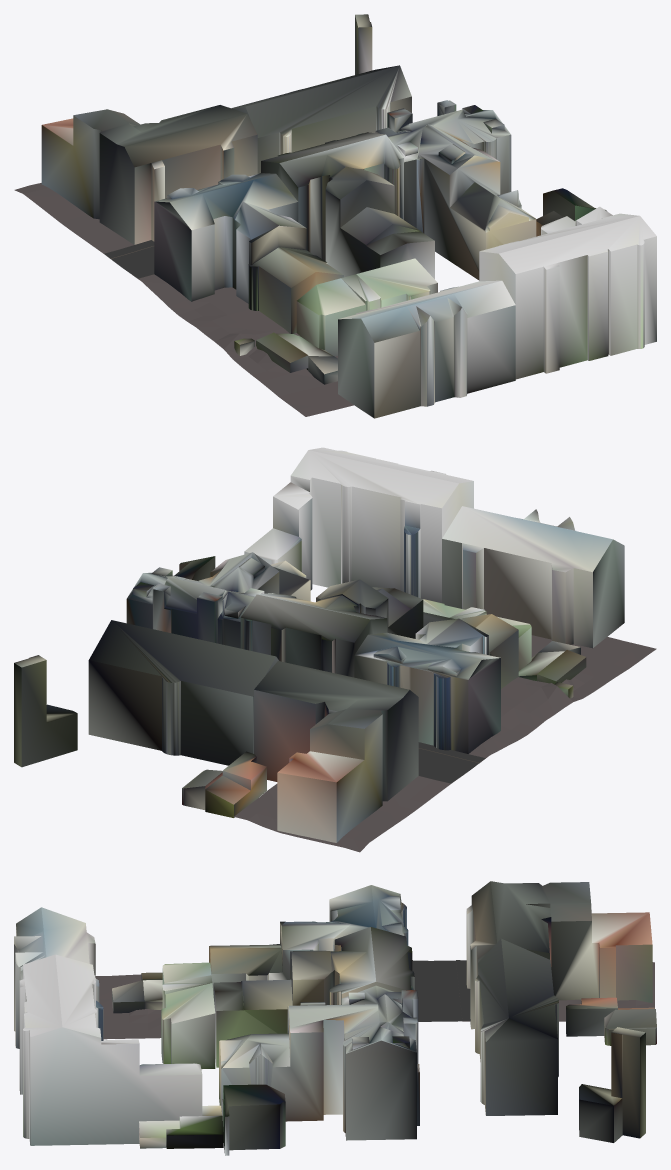
The picture shows the model from 3 angles, top to bottom: view 1: azimuth 30°, elevation 25°; view 2: azimuth 150°, elevation 25°; view 3: azimuth 270°, elevation 25°; orthographic projection. The views are drawn at different scales.
Parts seen in each view (by area): view 1: c_p06_p01; view 2: c_p06_p01; view 3: c_p06_p01.
Boxes of the visible parts, x1,y1,x2,y2 form: c_p06_p01: (14, 14, 656, 418); c_p06_p01: (14, 447, 656, 852); c_p06_p01: (14, 881, 656, 1155).
Bounding box in the file's own units: 97.46 × 28.16 × 137.
